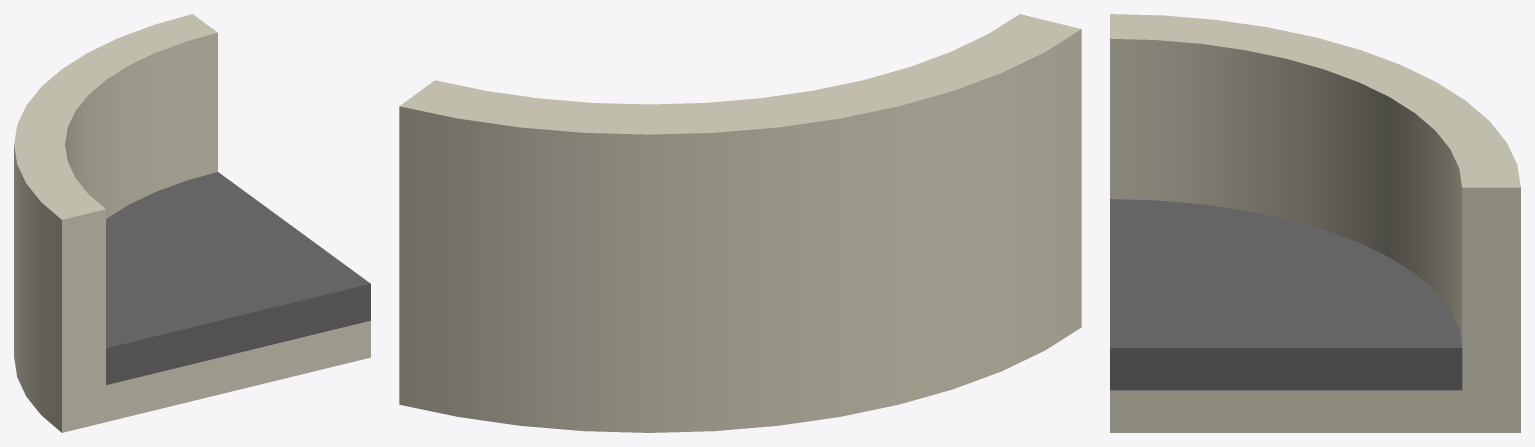
Rendered from tile237.dae.
3 views of the same model, side by side, from view 1: azimuth 30°, elevation 25°; view 2: azimuth 150°, elevation 25°; view 3: azimuth 270°, elevation 25° (orthographic). The views are drawn at different scales.
Visible parts, largest first — view 1: tile237; view 2: tile237; view 3: tile237.
Boxes of the visible parts, x1,y1,x2,y2 form: tile237: [14, 14, 370, 432]; tile237: [399, 14, 1081, 432]; tile237: [1110, 14, 1520, 432].
Bounding box in the file's own units: 0.875 × 0.5767 × 0.875.
